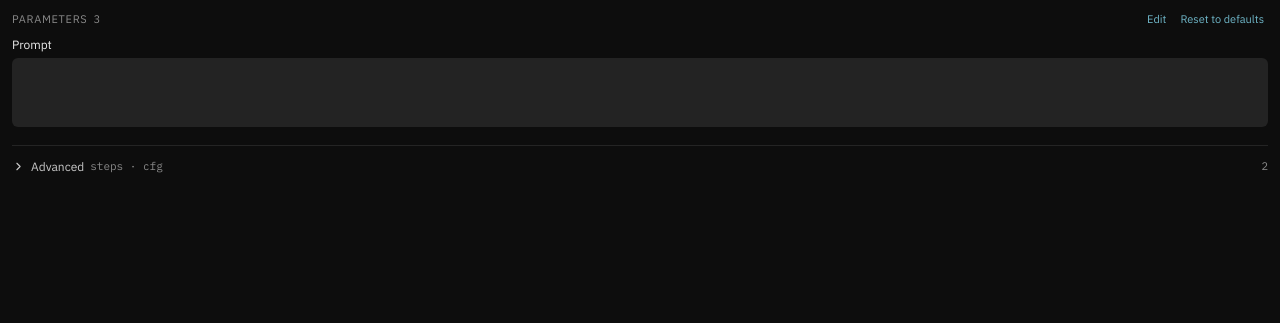
Scenario: the panel's own behaviour › the advanced section is collapsed until it is opened
What coordinates should you click on to do the following:
click the button "Advanced steps · cfg 2"
I would click on:
 (58, 167)
Its box is [12,156,1268,178].
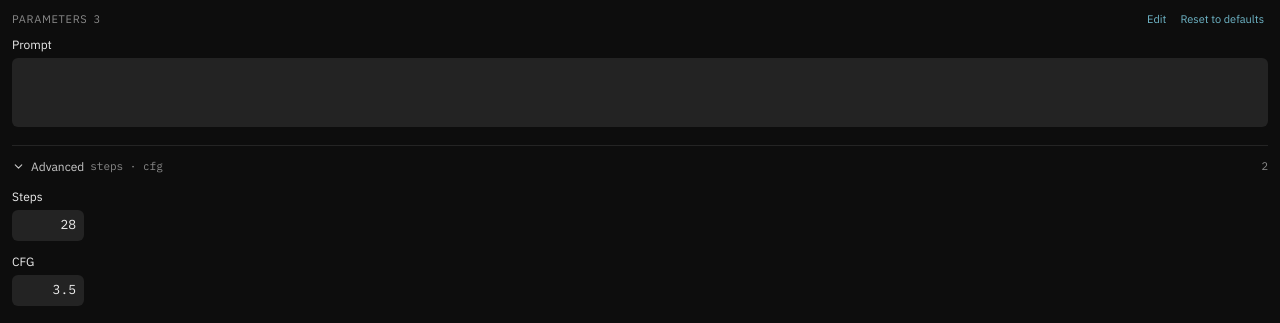
Check: the number field named "Steps value" is shown, box [12,210,84,241]
Check: the number field named "CFG value" is shown, box [12,275,84,306]
